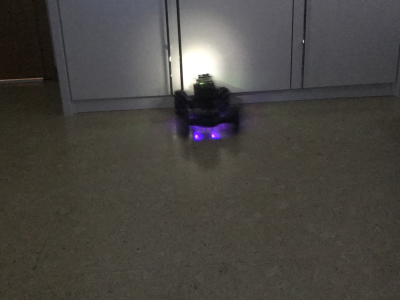remote control car: (160, 68, 245, 141)
